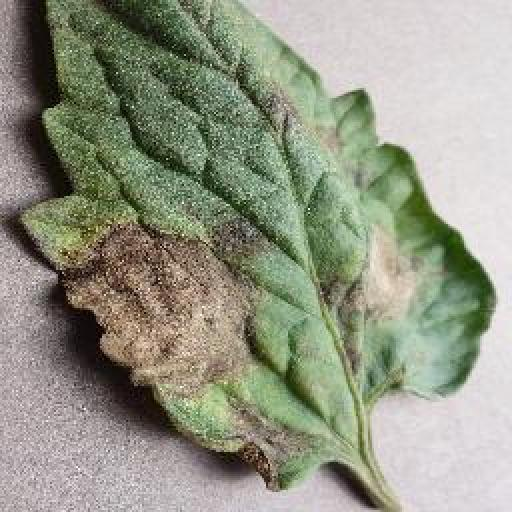disease_tomato: (14, 0, 500, 490)
